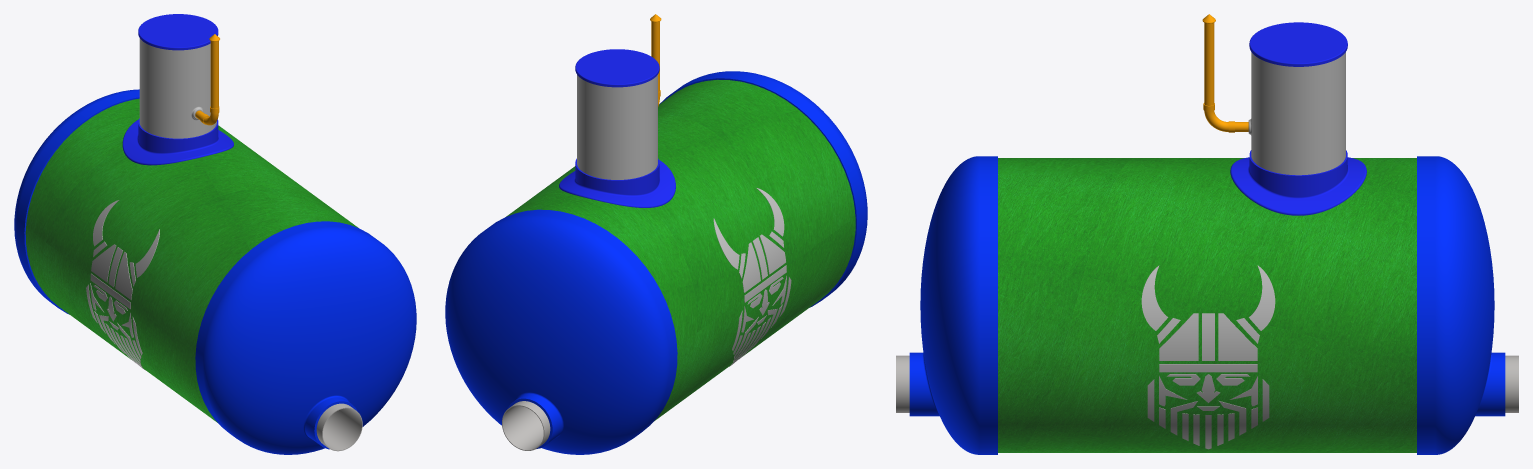
The picture shows the model from 3 angles, left to right: view 1: azimuth 30°, elevation 25°; view 2: azimuth 150°, elevation 25°; view 3: azimuth 270°, elevation 25°; orthographic projection. The views are drawn at different scales.
Visible parts, largest first — view 1: Твердое тело1 (×7), Solid1 (×2); view 2: Твердое тело1 (×7), Solid1; view 3: Твердое тело1 (×7), Solid1 (×3).
Part boxes in pixels (x1,y1,x2,y2): Твердое тело1 (×7): [14, 14, 416, 454]; Solid1 (×2): [210, 41, 362, 451]; Твердое тело1 (×7): [445, 49, 867, 454]; Solid1: [502, 401, 550, 450]; Твердое тело1 (×7): [909, 22, 1505, 454]; Solid1 (×3): [896, 23, 1518, 412].
Size of the model in its own units: 3.28 by 5.17 by 6.83.
Materials: 9 (1 with a texture image).
